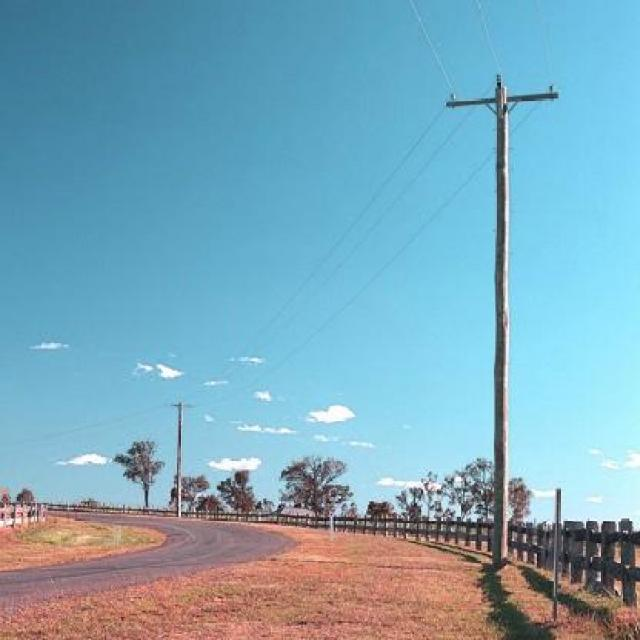pole: (440, 70, 568, 564), (163, 394, 199, 515)
